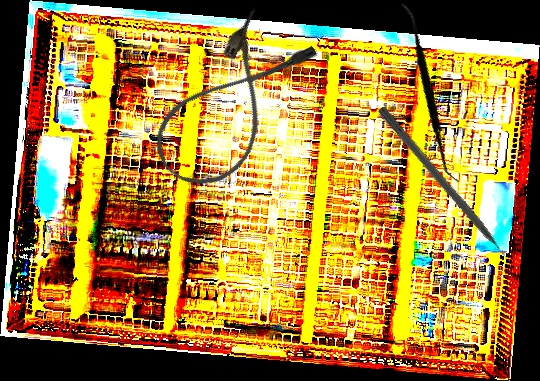Cannula: (140, 1, 324, 205)
Pusher: (375, 105, 519, 273)
Spatula Surgical: (338, 1, 523, 184)
